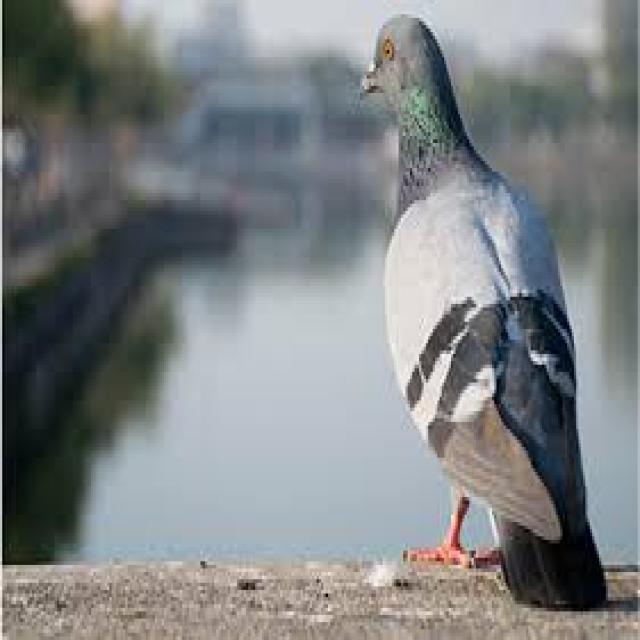pigeon: (359, 13, 618, 625)
